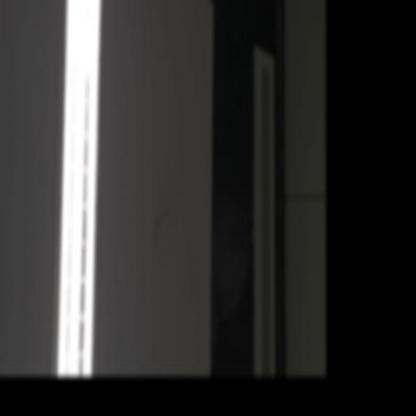light_on: (40, 0, 116, 377)
